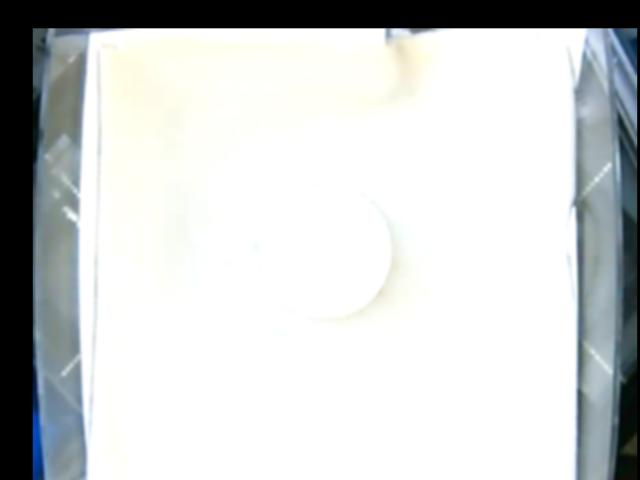Cup: (262, 187, 392, 320)
